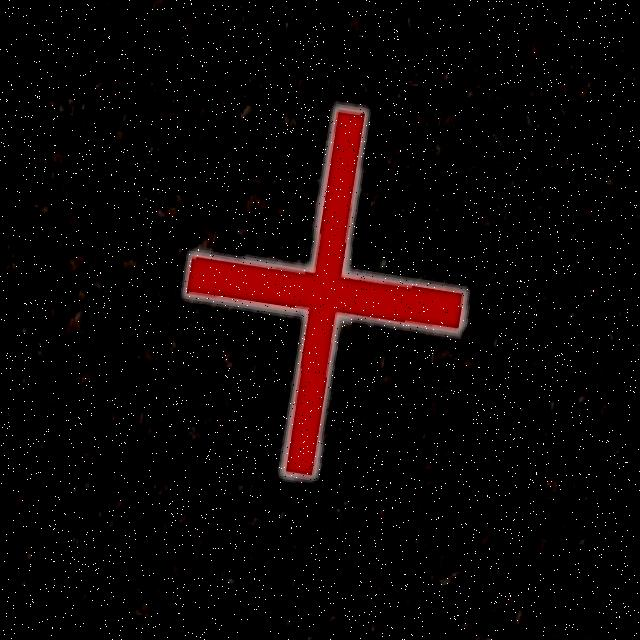x_marker: (160, 89, 490, 496)
